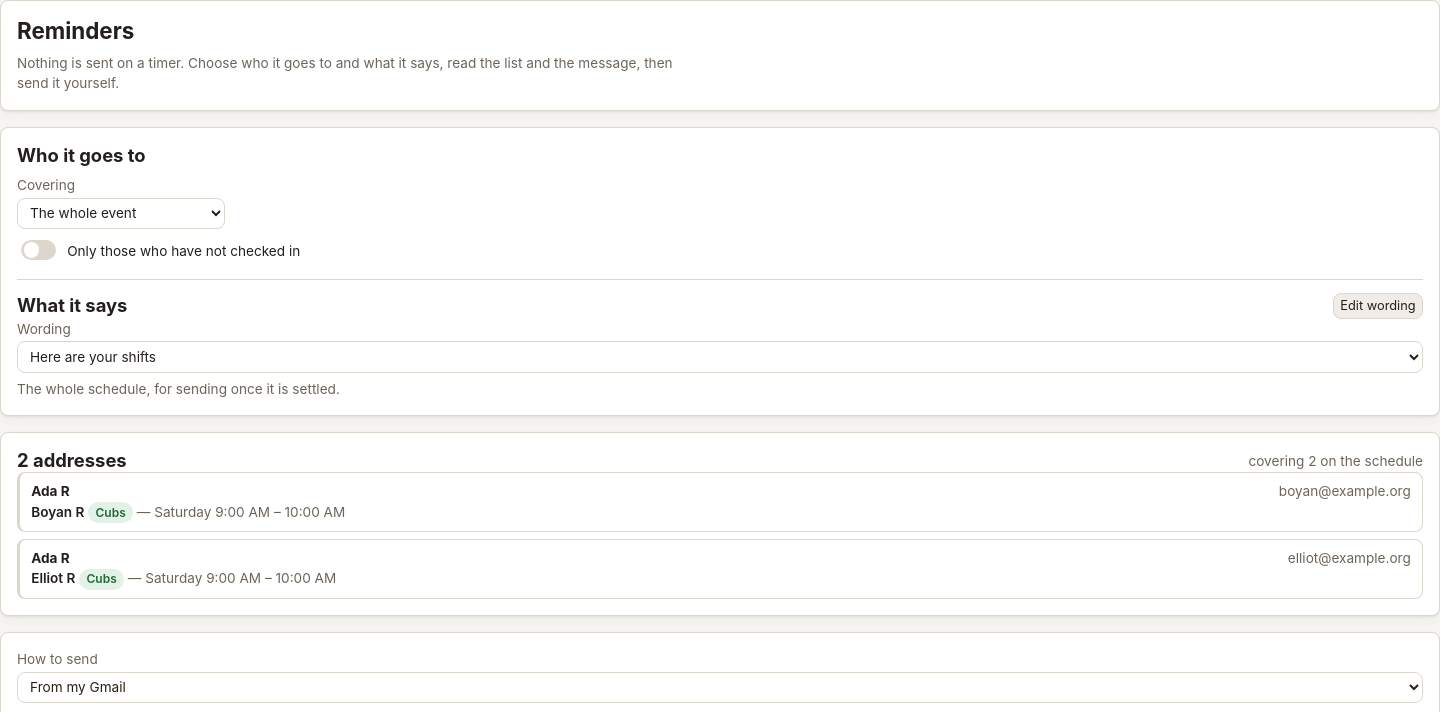
it: the wording and the filter › starts with the filter on for a shift reminder, and says why
Select "One day" in the dropdown labelled "Covering". click: coordinates (121, 213)
box: [17,198,225,229]
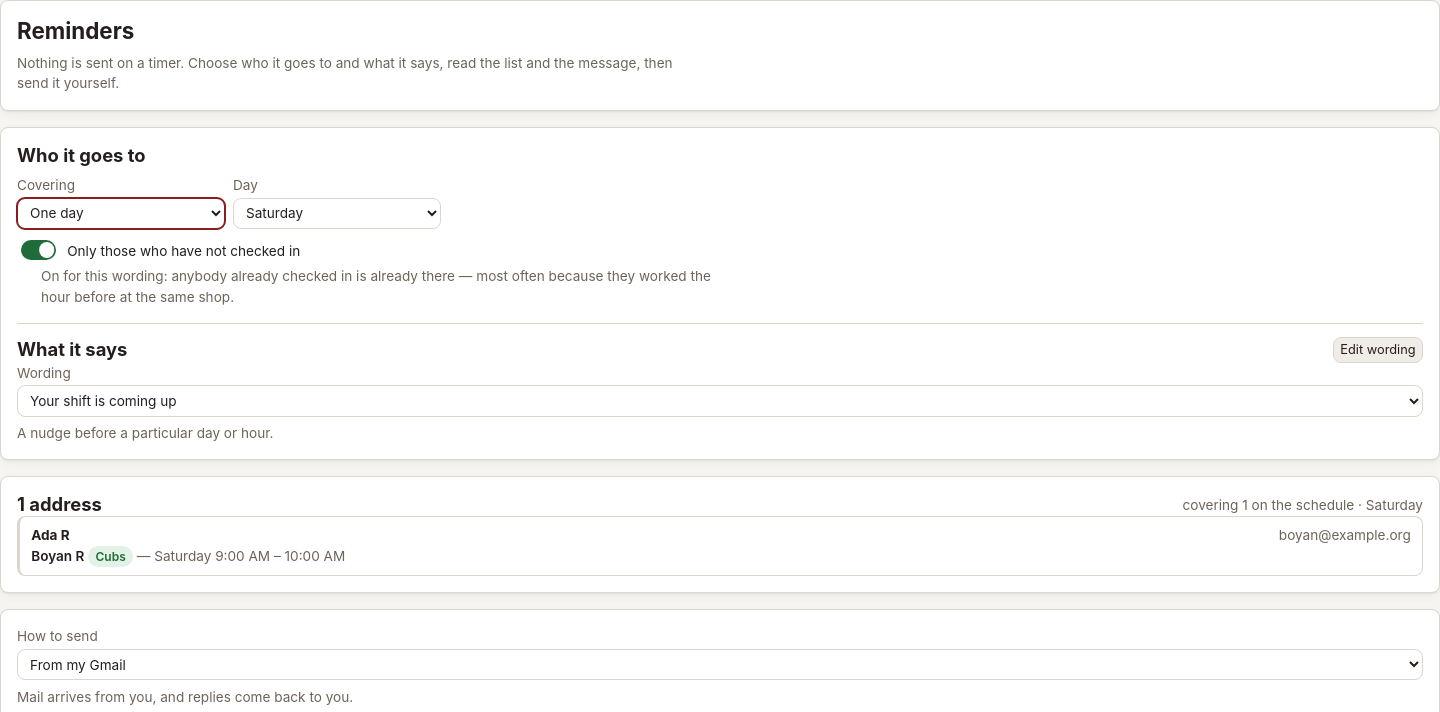
expect the checkbox labelled "Only those who have not checked in" is checked: met, box [21,240,56,260]
expect the text "already checked in is already there" is shown: met, box [41,268,711,304]
expect the text "elliot@example.org" is gone: met
